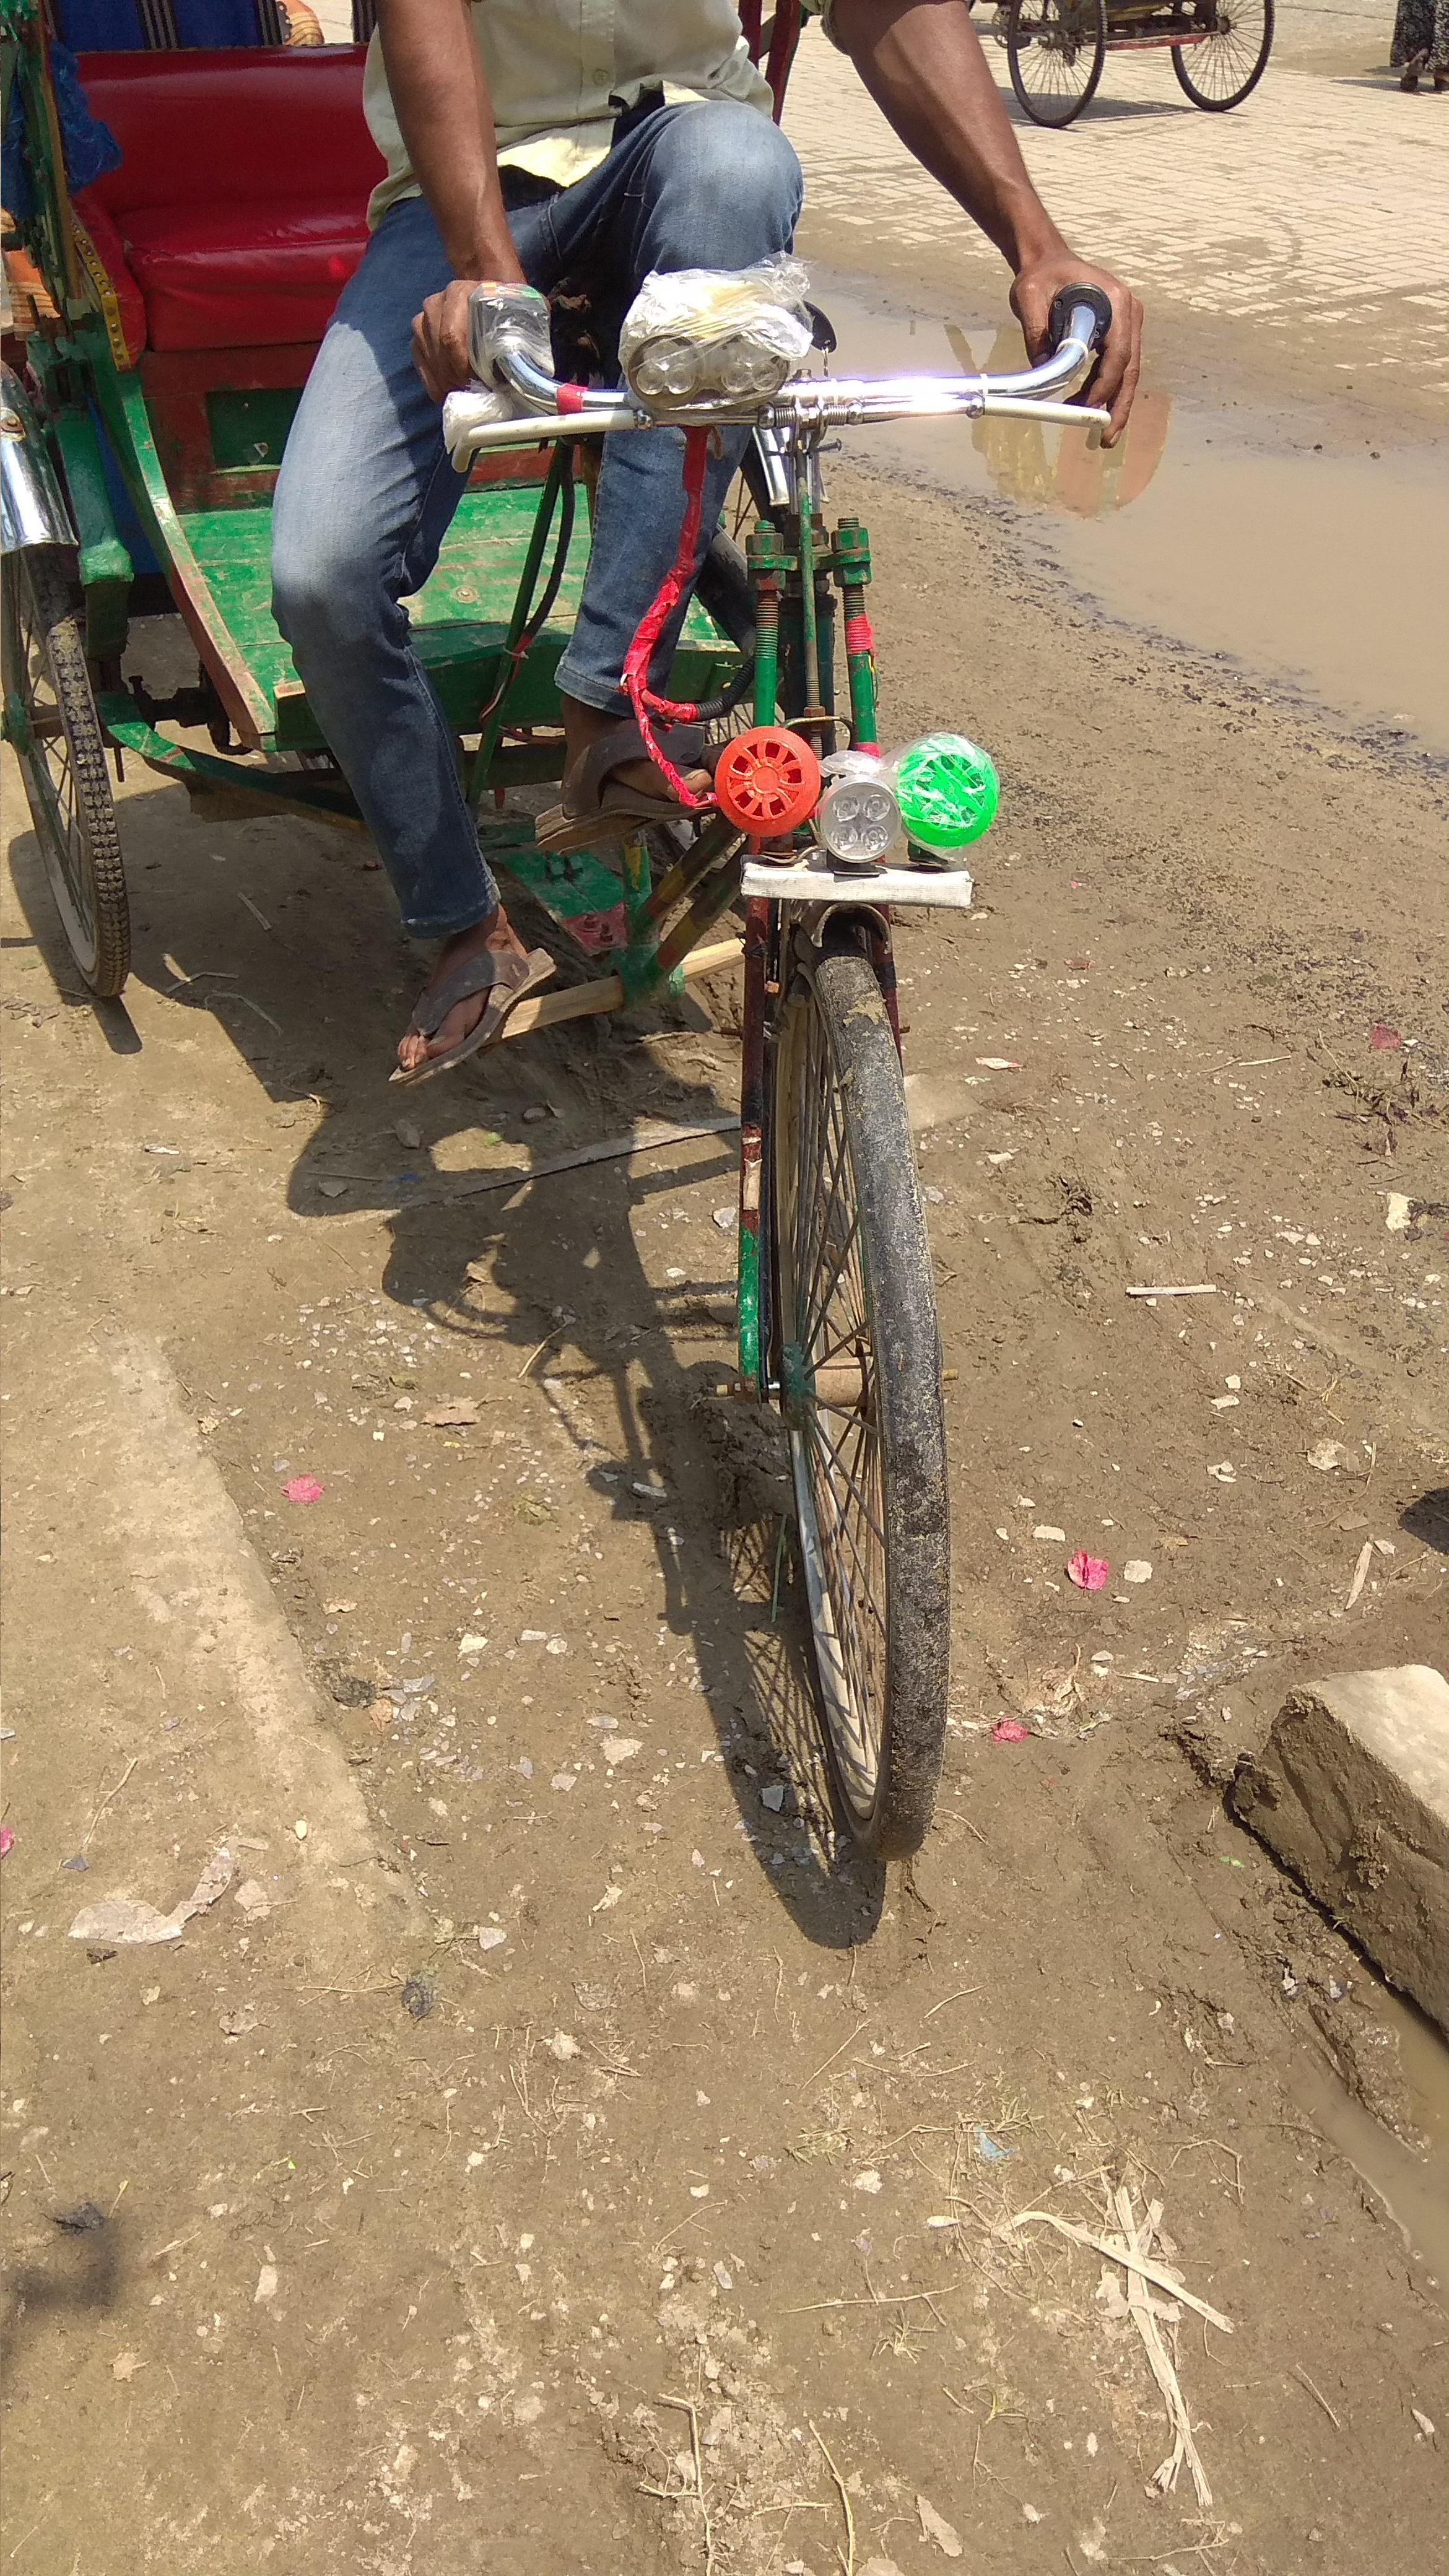Rickshaw: (0, 2, 1198, 1905)
